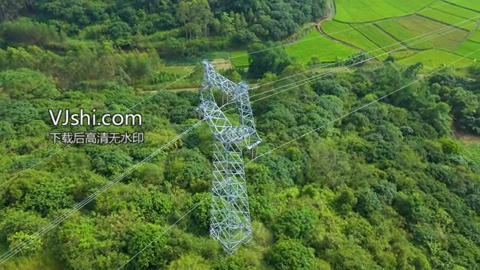tower_body: (190, 59, 266, 255)
tower_foot: (206, 200, 258, 252)
tower_head: (195, 62, 263, 150)
